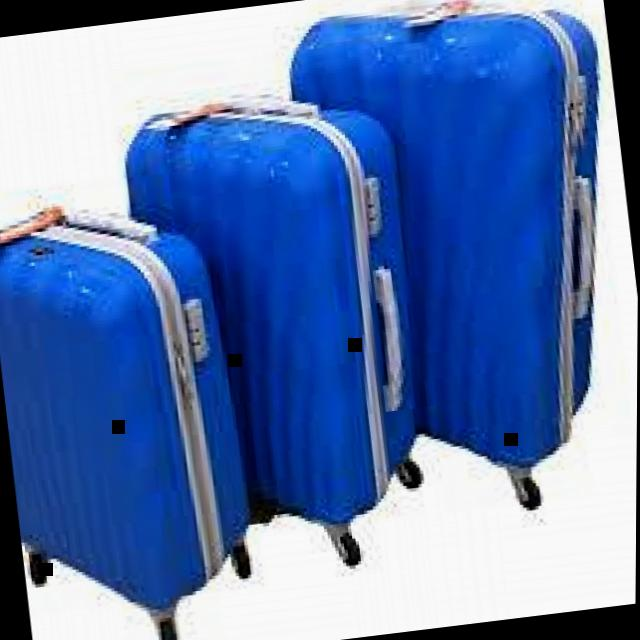luggage: (274, 0, 640, 497), (112, 71, 451, 552), (0, 177, 266, 634)
